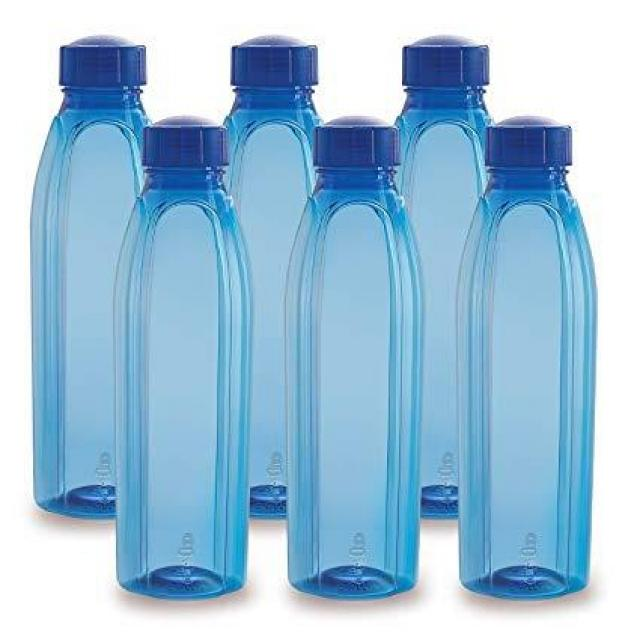plastic_bottle: (473, 128, 589, 600), (134, 126, 247, 591), (45, 50, 154, 518), (304, 131, 415, 586), (225, 50, 327, 515), (395, 59, 494, 521)
